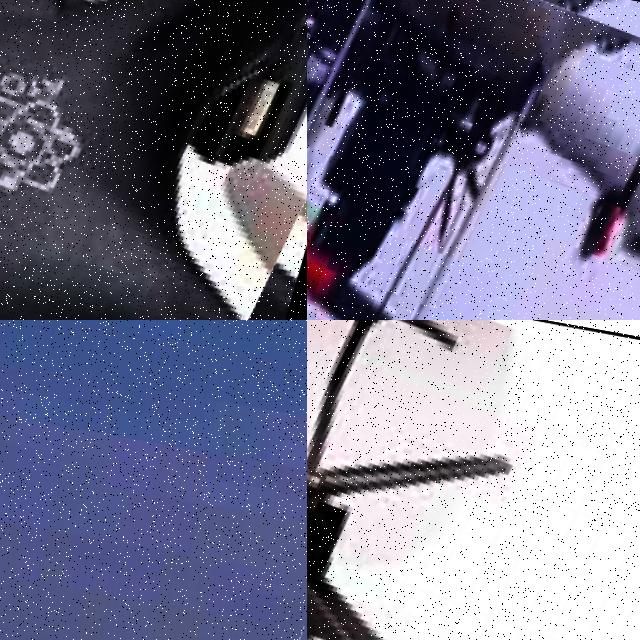0: (307, 0, 640, 320)
drone: (307, 320, 640, 640), (0, 0, 307, 320)
